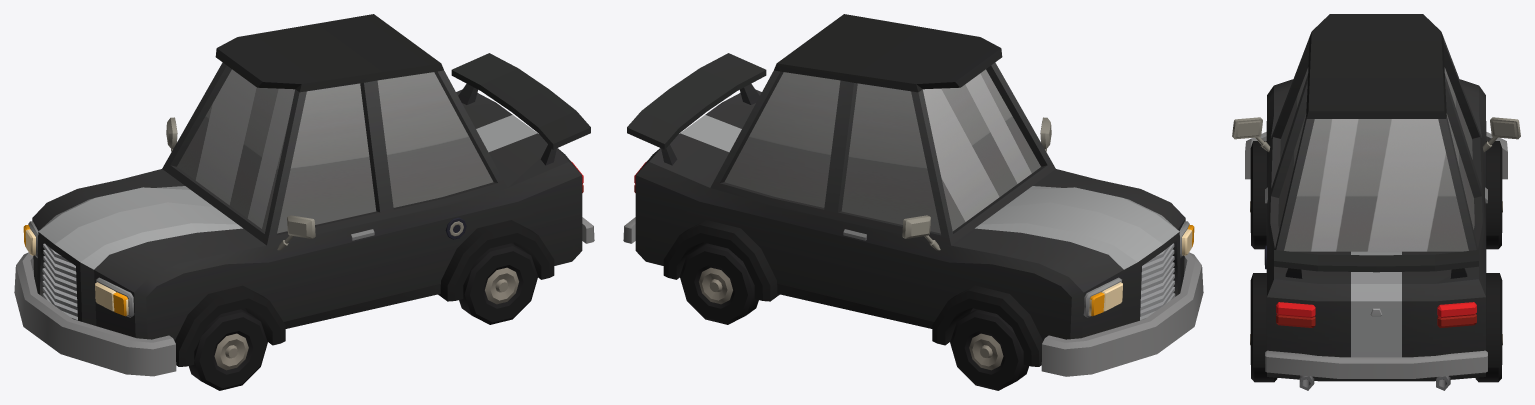
Rendered from Car_2_F.gltf.
The picture shows the model from 3 angles, left to right: view 1: azimuth 30°, elevation 25°; view 2: azimuth 150°, elevation 25°; view 3: azimuth 270°, elevation 25°; orthographic projection.
Visible parts, largest first — view 1: Car_2_F, RL, FL; view 2: Car_2_F, RR, FR; view 3: Car_2_F, RL, RR.
Boxes of the visible parts, box(x1,y1,x2,y2) form: Car_2_F: box(14, 14, 594, 376); RL: box(459, 243, 538, 324); FL: box(188, 309, 267, 390); Car_2_F: box(623, 14, 1203, 376); RR: box(679, 243, 758, 324); FR: box(950, 309, 1029, 390); Car_2_F: box(1232, 14, 1520, 390); RL: box(1250, 334, 1277, 382); RR: box(1475, 334, 1502, 382).
Bounding box in the file's own units: 3.64 × 1.8 × 1.78.
Materials: 4 (4 with a texture image).
